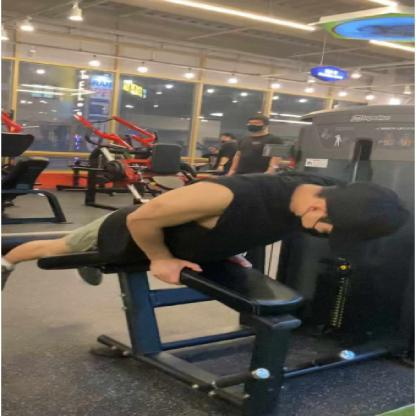reg curl machine: (5, 101, 416, 415)
